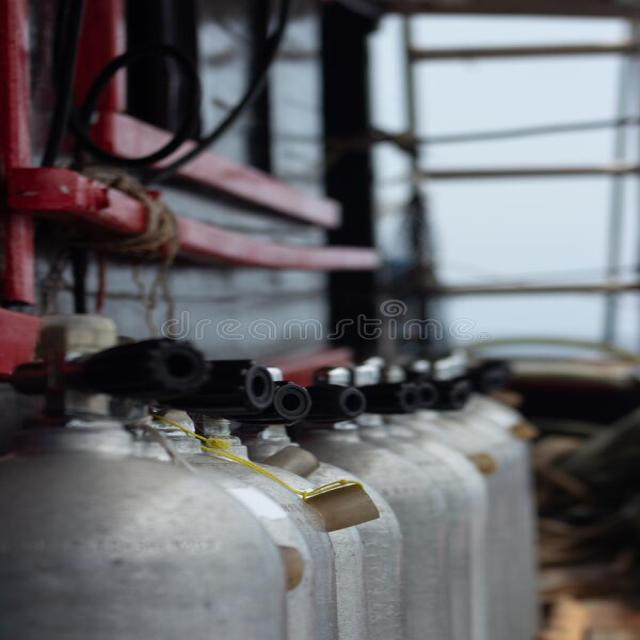fire_extinguisher: (0, 320, 306, 639)
